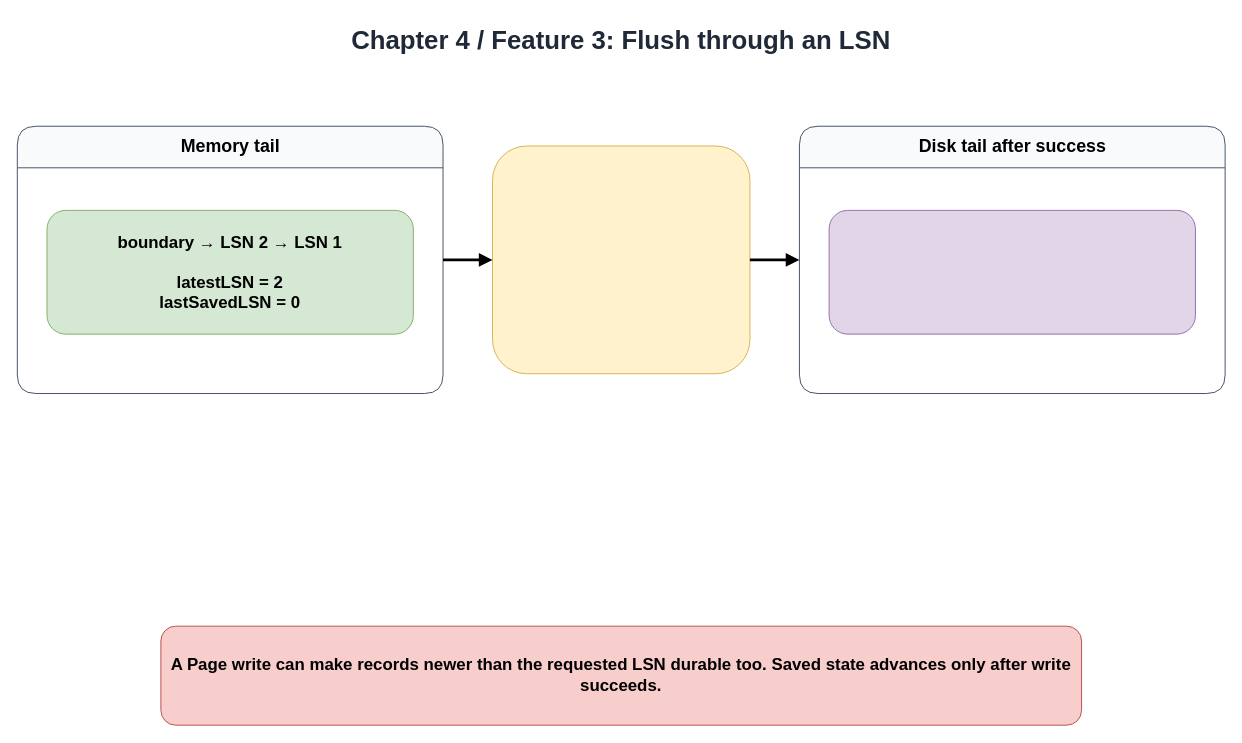
Some shapes in this 1242 by 743 pixel diagram are drawn without their labels. The shapes that lost their labels are listed below. From the top down, each one's centre as x and y in pixels, then its label:
At pixel 621 259: "Flush(1) 1 > lastSaved 0 1 ≤ latest 2 Write current Page".
At pixel 1011 271: "boundary → LSN 2 → LSN 1 lastSavedLSN = latestLSN = 2".
